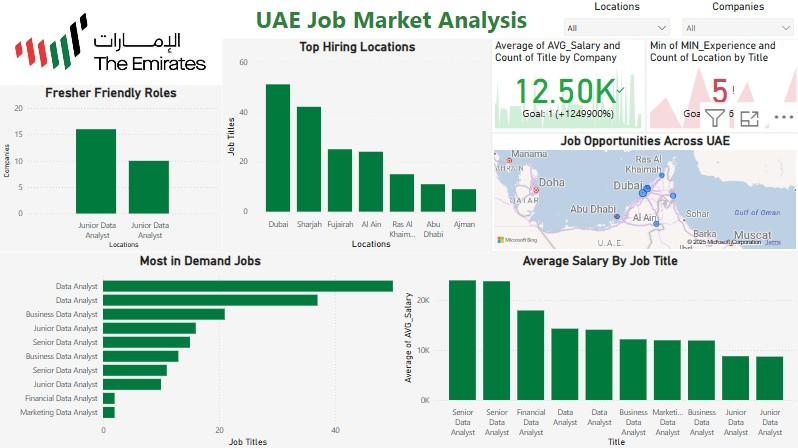

The page's visual inventory and layout, read from the dashboard file:
{"tool":"powerbi","page":{"name":"Page 1","canvas":[1280,720],"ordinal":0},"visuals":[{"type":"textbox","box":[355,0,530,61.7],"z":0},{"type":"columnChart","title":"Fresher Friendly Roles","fields":{"Category":["uae_job_market_cleaned.Title"],"Y":["CountNonNull(uae_job_market_cleaned.Company)"]},"box":[0,136.7,355,266.7],"z":1000},{"type":"clusteredBarChart","title":"Most in Demand Jobs","fields":{"Category":["uae_job_market_cleaned.Title"],"Y":["CountNonNull(uae_job_market_cleaned.Title)"]},"box":[0,403.4,640.8,317],"z":2000},{"type":"columnChart","title":"Average Salary By Job Title","fields":{"Category":["uae_job_market_cleaned.Title"],"Y":["Avg(uae_job_market_cleaned.AVG_Salary)"]},"box":[639.5,403.4,640.8,317],"z":3000},{"type":"columnChart","title":"Top Hiring Locations","fields":{"Category":["uae_job_market_cleaned.Location"],"Y":["CountNonNull(uae_job_market_cleaned.Title)"]},"box":[355,61.7,431.7,341.7],"z":4000},{"type":"kpi","fields":{"TrendLine":["uae_job_market_cleaned.Company"],"Goal":["CountNonNull(uae_job_market_cleaned.Title)"],"Indicator":["Avg(uae_job_market_cleaned.AVG_Salary)"]},"box":[786.7,61.7,246.7,150],"z":5000},{"type":"kpi","fields":{"TrendLine":["uae_job_market_cleaned.Title"],"Indicator":["Min(uae_job_market_cleaned.MIN_Experience)"],"Goal":["CountNonNull(uae_job_market_cleaned.Location)"]},"box":[1033.3,61.7,246.7,150],"z":6000},{"type":"map","title":"Job Opportunities Across UAE","fields":{"Size":["CountNonNull(uae_job_market_cleaned.Title)"],"Category":["uae_job_market_cleaned.Location"]},"box":[786.7,211.7,493.3,191.7],"z":7000},{"type":"slicer","title":"Locations","fields":{"Values":["uae_job_market_cleaned.Location"]},"box":[891.7,0,190,61.7],"z":8000},{"type":"image","box":[0,0,355,136.7],"z":9000},{"type":"slicer","title":"Companies","fields":{"Values":["uae_job_market_cleaned.Company"]},"box":[1081.7,0,198.3,61.7],"z":9001}]}

Visuals, with their boxes in screenshot pixels (x1, y1, x2, y2), scaled from the page's 1280x720 canvas onto the 798x448 screenshot:
textbox: bbox=[221, 0, 552, 38]
"Fresher Friendly Roles" columnChart: bbox=[0, 85, 221, 251]
"Most in Demand Jobs" clusteredBarChart: bbox=[0, 251, 399, 447]
"Average Salary By Job Title" columnChart: bbox=[399, 251, 797, 447]
"Top Hiring Locations" columnChart: bbox=[221, 38, 490, 251]
kpi - uae_job_market_cleaned.Company x CountNonNull(uae_job_market_cleaned.Title): bbox=[490, 38, 644, 132]
kpi - uae_job_market_cleaned.Title x Min(uae_job_market_cleaned.MIN_Experience): bbox=[644, 38, 797, 132]
"Job Opportunities Across UAE" map: bbox=[490, 132, 797, 251]
"Locations" slicer: bbox=[556, 0, 674, 38]
image: bbox=[0, 0, 221, 85]
"Companies" slicer: bbox=[674, 0, 797, 38]
